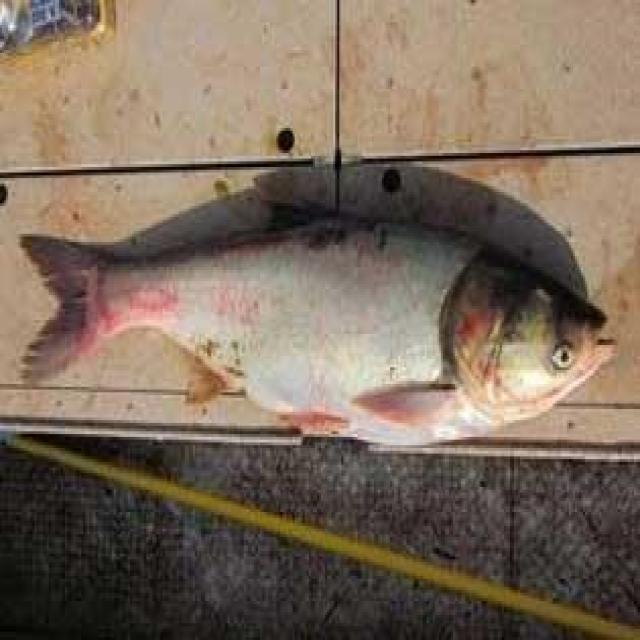Big-Head-Carp: (22, 120, 633, 524)
